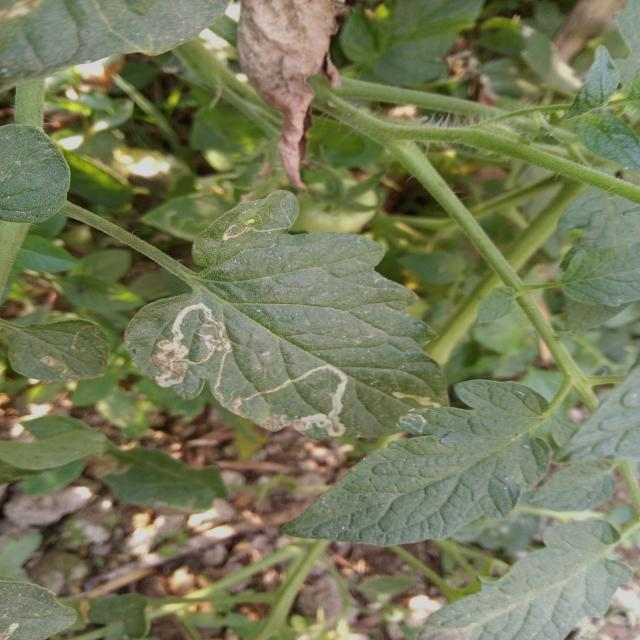Tuta absoluta: (130, 295, 238, 396), (265, 357, 369, 457), (219, 211, 287, 245), (392, 386, 442, 410), (39, 351, 71, 379)
